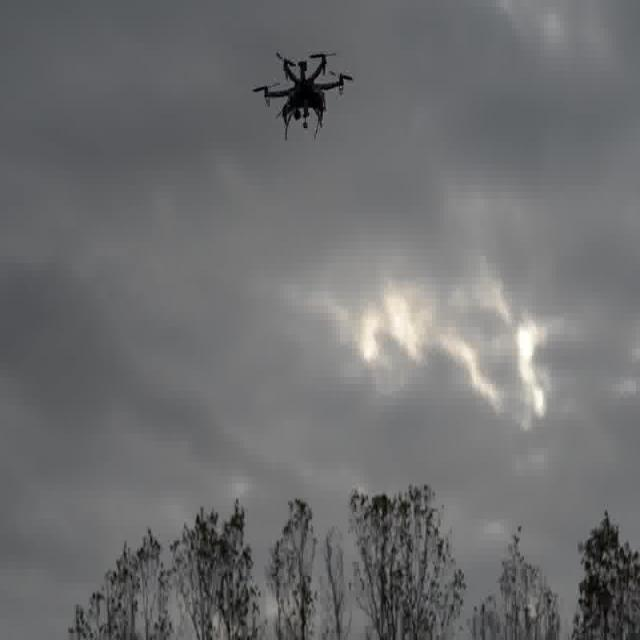drone: (252, 42, 350, 140)
